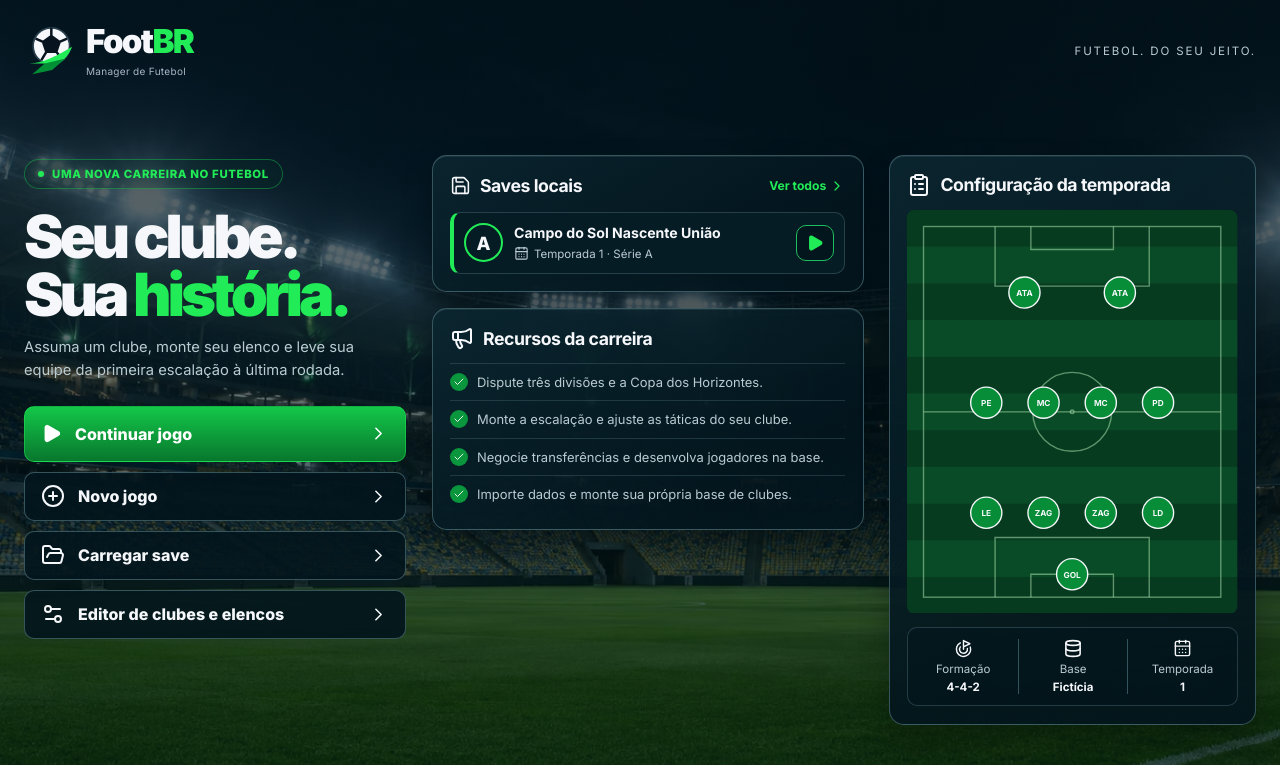
Scenario: componentes da interface › retoma uma carreira salva pelo menu após recarregar o jogo
Step 1. Click the button "Continuar jogo" → {"x": 134, "y": 434}, box [24,406,406,462]
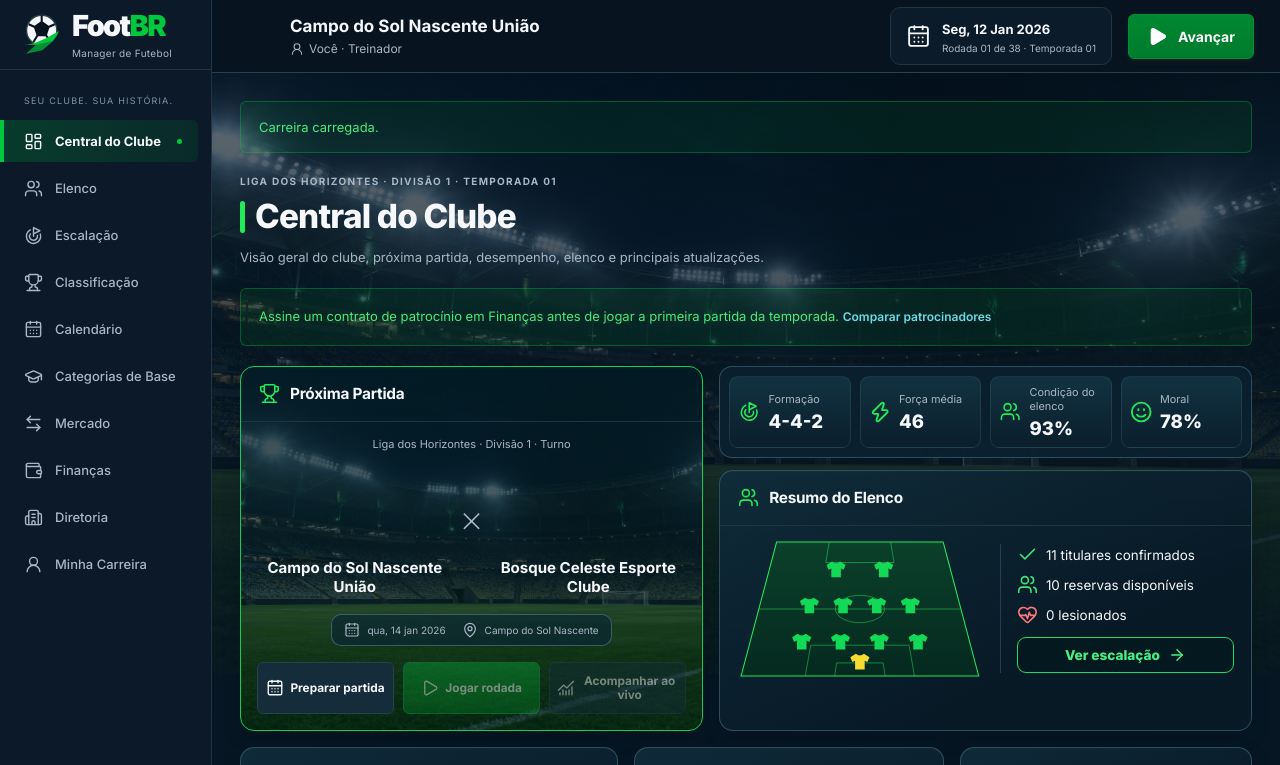
Expected: the heading "Central do Clube" is shown, [255,196,516,236]
